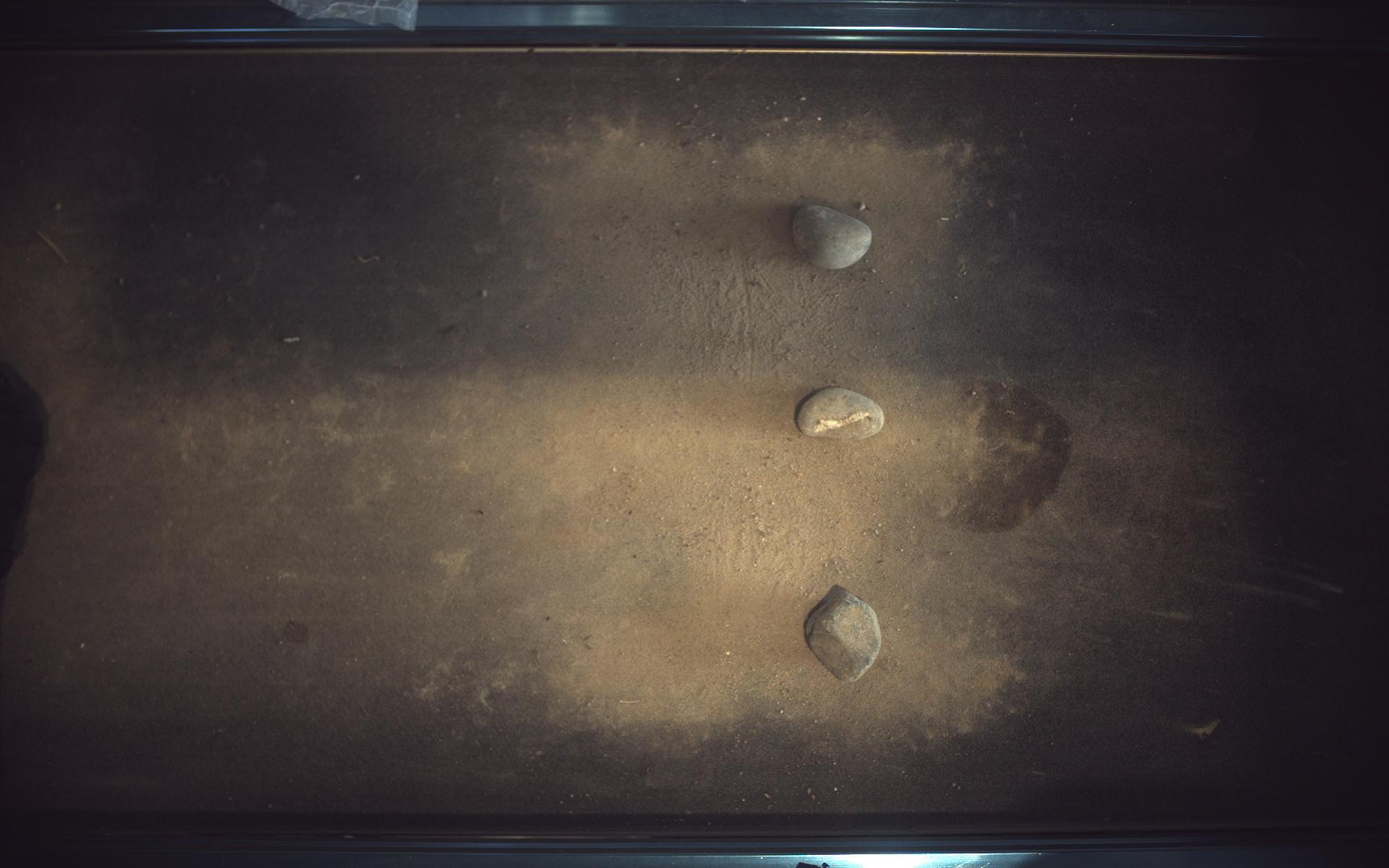stone: (805, 586, 883, 684), (794, 204, 873, 269), (798, 387, 886, 440)
